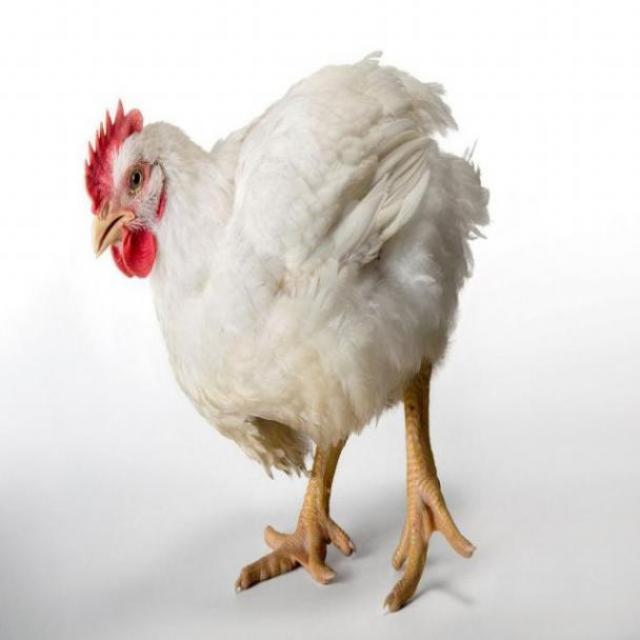Chicken: (82, 70, 510, 619)
